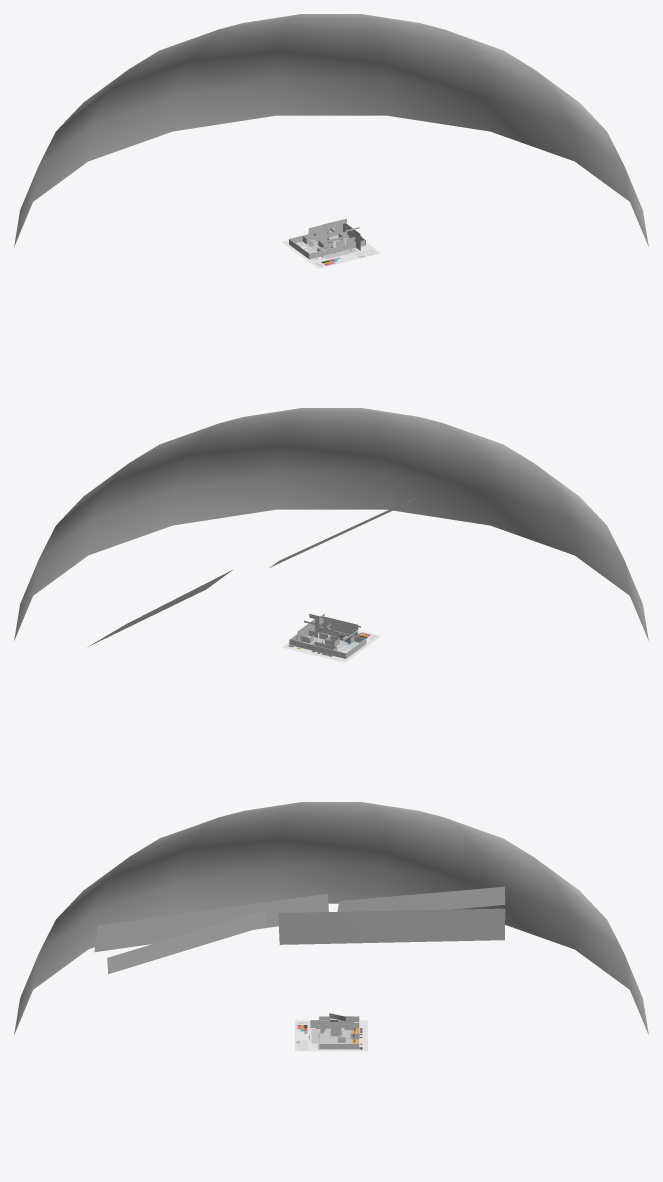
The model's file is TheFifth_v3.glb.
3 views of the same model, one above another, from view 1: azimuth 30°, elevation 25°; view 2: azimuth 150°, elevation 25°; view 3: azimuth 270°, elevation 25° (orthographic).
Visible parts, largest first — view 1: sky, hall, Plane; view 2: sky, clouds, hall, Plane; view 3: sky, clouds, Plane, hall.
Boxes of the visible parts, bbox=[...] form: sky: bbox=[14, 14, 648, 246]; hall: bbox=[308, 218, 361, 259]; Plane: bbox=[282, 238, 380, 268]; sky: bbox=[14, 408, 648, 640]; clouds: bbox=[88, 496, 418, 646]; hall: bbox=[297, 613, 360, 643]; Plane: bbox=[282, 630, 380, 662]; sky: bbox=[14, 802, 648, 1034]; clouds: bbox=[94, 886, 505, 973]; Plane: bbox=[295, 1020, 367, 1051]; hall: bbox=[310, 1013, 354, 1043].
Bounding box in the file's own units: 197 × 67.07 × 200.
Materials: 1 (1 with a texture image).
